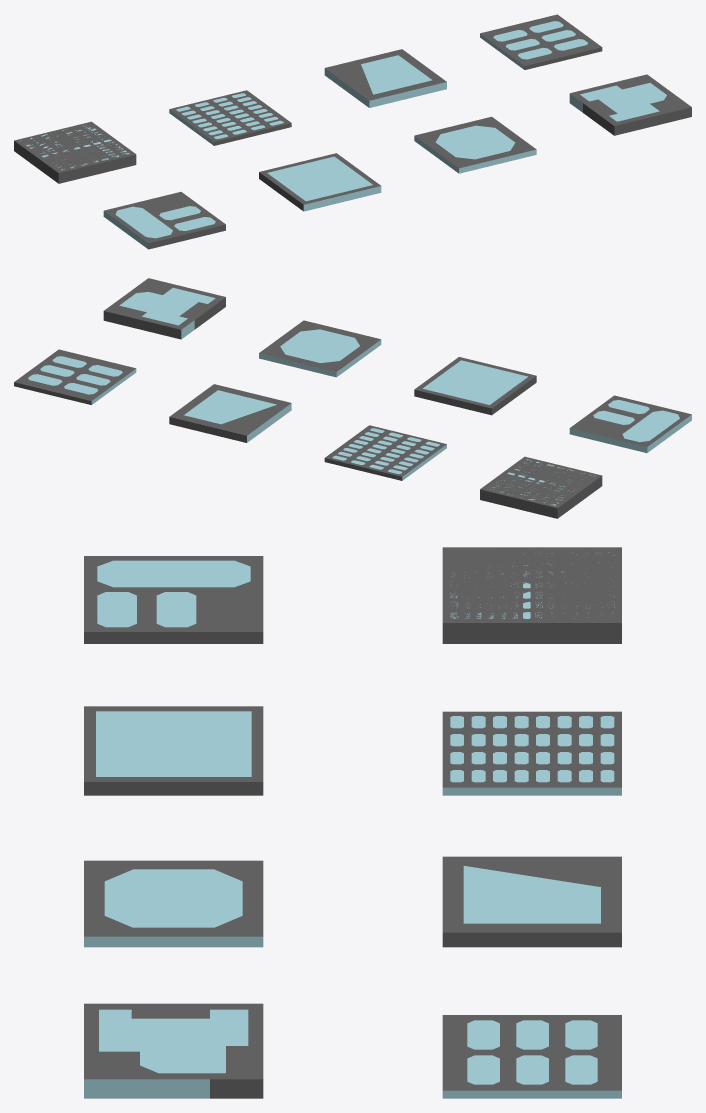
The model's file is FlatPanels.fbx.
3 views of the same model, one above another, from view 1: azimuth 30°, elevation 25°; view 2: azimuth 150°, elevation 25°; view 3: azimuth 270°, elevation 25° (orthographic). The views are drawn at different scales.
Visible parts, largest first — view 1: Cube.009, Cube.008, Cube.011, Cube.006, Cube.005, Cube.007, Cube.010, Cube.012; view 2: Cube.009, Cube.008, Cube.011, Cube.006, Cube.005, Cube.007, Cube.010, Cube.012; view 3: Cube.009, Cube.008, Cube.011, Cube.006, Cube.005, Cube.007, Cube.010, Cube.012.
Boxes of the visible parts, x1=… form: Cube.009: x1=14, y1=121, x2=136, y2=183; Cube.008: x1=569, y1=74, x2=691, y2=135; Cube.011: x1=324, y1=49, x2=446, y2=107; Cube.006: x1=259, y1=153, x2=381, y2=211; Cube.005: x1=103, y1=192, x2=225, y2=249; Cube.007: x1=414, y1=116, x2=536, y2=173; Cube.010: x1=169, y1=90, x2=291, y2=145; Cube.012: x1=480, y1=14, x2=602, y2=69; Cube.009: x1=480, y1=456, x2=602, y2=518; Cube.008: x1=103, y1=278, x2=225, y2=339; Cube.011: x1=169, y1=384, x2=291, y2=442; Cube.006: x1=414, y1=357, x2=536, y2=415; Cube.005: x1=569, y1=395, x2=691, y2=452; Cube.007: x1=259, y1=320, x2=381, y2=377; Cube.010: x1=324, y1=425, x2=446, y2=480; Cube.012: x1=14, y1=349, x2=136, y2=404; Cube.009: x1=442, y1=547, x2=621, y2=643; Cube.008: x1=84, y1=1003, x2=263, y2=1098; Cube.011: x1=442, y1=856, x2=621, y2=947; Cube.006: x1=84, y1=706, x2=263, y2=795; Cube.005: x1=84, y1=556, x2=263, y2=643; Cube.007: x1=84, y1=860, x2=263, y2=947; Cube.010: x1=442, y1=711, x2=621, y2=795; Cube.012: x1=442, y1=1015, x2=621, y2=1098.
Bounding box in the file's own units: 700 × 13 × 300.
